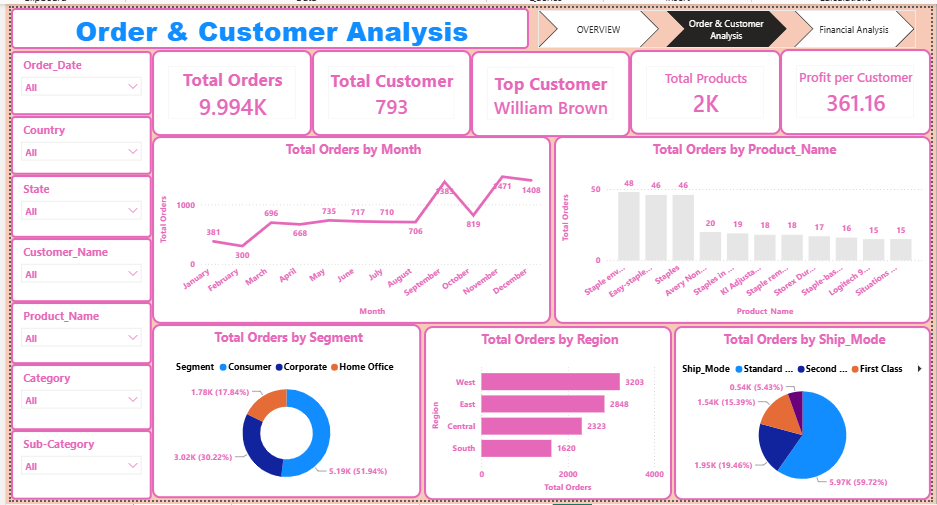

Layout of this report page (visuals, bound fields, positions):
{"tool":"powerbi","page":{"name":"Order & Customer Analysis","canvas":[1346,720],"ordinal":1},"visuals":[{"type":"pageNavigator","box":[771.2,2.9,553.2,55.6],"z":0},{"type":"cardVisual","fields":{"Data":["Sheet1.Top Selling Product"]},"box":[673.2,62.9,232.7,125.9],"z":2000},{"type":"cardVisual","fields":{"Data":["Sheet1.Total Customer"]},"box":[440.5,61.5,232.7,125.9],"z":3000},{"type":"shape","title":"Order & Customer Analysis","box":[0,0,758,60],"z":4000},{"type":"slicer","fields":{"Values":["Sheet1.Country"]},"box":[0,158,206.3,86.3],"z":5000},{"type":"slicer","fields":{"Values":["Sheet1.State"]},"box":[0,244.4,206.3,92.2],"z":6000},{"type":"slicer","fields":{"Values":["Sheet1.Customer_Name"]},"box":[0,336.6,206.3,93.7],"z":7000},{"type":"slicer","fields":{"Values":["Sheet1.Product_Name"]},"box":[0,430.2,206.3,90.7],"z":8000},{"type":"slicer","fields":{"Values":["Sheet1.Category"]},"box":[0,521,206.3,96.6],"z":9000},{"type":"slicer","fields":{"Values":["Sheet1.Sub-Category"]},"box":[0,617.6,206.3,102.4],"z":10000},{"type":"cardVisual","fields":{"Data":["Sheet1.Total Orders"]},"box":[206.3,61.5,234.1,125.9],"z":11000},{"type":"cardVisual","fields":{"Data":["Sheet1.Profit per Customer"]},"box":[1125.4,60,221,125.9],"z":12000},{"type":"cardVisual","fields":{"Data":["Sheet1.Total Products"]},"box":[905.9,61.5,221,124.4],"z":13000},{"type":"lineChart","fields":{"Category":["Sheet1.Order_Date.Variation.Date Hierarchy.Month"],"Y":["Sheet1.Total Orders"]},"box":[206.3,187.3,583.9,275.1],"z":14000},{"type":"columnChart","fields":{"Category":["Sheet1.Product_Name"],"Y":["Sheet1.Total Orders"]},"box":[794.6,187.3,551.7,275.1],"z":15000},{"type":"donutChart","fields":{"Category":["Sheet1.Segment"],"Y":["Sheet1.Total Orders"]},"box":[206.3,462.4,393.7,254.6],"z":16000},{"type":"barChart","fields":{"Category":["Sheet1.Region"],"Y":["Sheet1.Total Orders"]},"box":[604.4,465.4,362.9,254.6],"z":17000},{"type":"pieChart","fields":{"Category":["Sheet1.Ship_Mode"],"Y":["Sheet1.Total Orders"]},"box":[970.2,465.4,376.1,254.6],"z":18000},{"type":"slicer","fields":{"Values":["Sheet1.Order_Date"]},"box":[0,62.9,206.3,93.7],"z":18001}]}

Visuals, with their boxes in screenshot pixels (x1, y1, x2, y2), scaled from the page's 1346x720 canvas onto the 937x505 screenshot:
pageNavigator: {"x1": 537, "y1": 2, "x2": 922, "y2": 41}
cardVisual - Sheet1.Top Selling Product: {"x1": 469, "y1": 44, "x2": 631, "y2": 132}
cardVisual - Sheet1.Total Customer: {"x1": 307, "y1": 43, "x2": 469, "y2": 131}
"Order & Customer Analysis" shape: {"x1": 0, "y1": 0, "x2": 528, "y2": 42}
slicer - Sheet1.Country: {"x1": 0, "y1": 111, "x2": 144, "y2": 171}
slicer - Sheet1.State: {"x1": 0, "y1": 171, "x2": 144, "y2": 236}
slicer - Sheet1.Customer_Name: {"x1": 0, "y1": 236, "x2": 144, "y2": 302}
slicer - Sheet1.Product_Name: {"x1": 0, "y1": 302, "x2": 144, "y2": 365}
slicer - Sheet1.Category: {"x1": 0, "y1": 365, "x2": 144, "y2": 433}
slicer - Sheet1.Sub-Category: {"x1": 0, "y1": 433, "x2": 144, "y2": 504}
cardVisual - Sheet1.Total Orders: {"x1": 144, "y1": 43, "x2": 307, "y2": 131}
cardVisual - Sheet1.Profit per Customer: {"x1": 783, "y1": 42, "x2": 936, "y2": 130}
cardVisual - Sheet1.Total Products: {"x1": 631, "y1": 43, "x2": 784, "y2": 130}
lineChart - Sheet1.Order_Date.Variation.Date Hierarchy.Month x Sheet1.Total Orders: {"x1": 144, "y1": 131, "x2": 550, "y2": 324}
columnChart - Sheet1.Product_Name x Sheet1.Total Orders: {"x1": 553, "y1": 131, "x2": 936, "y2": 324}
donutChart - Sheet1.Segment x Sheet1.Total Orders: {"x1": 144, "y1": 324, "x2": 418, "y2": 503}
barChart - Sheet1.Region x Sheet1.Total Orders: {"x1": 421, "y1": 326, "x2": 673, "y2": 504}
pieChart - Sheet1.Ship_Mode x Sheet1.Total Orders: {"x1": 675, "y1": 326, "x2": 936, "y2": 504}
slicer - Sheet1.Order_Date: {"x1": 0, "y1": 44, "x2": 144, "y2": 110}
